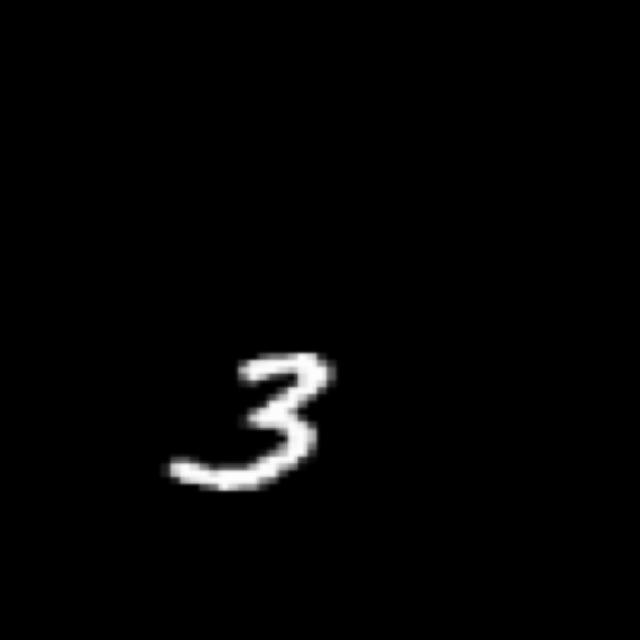three -3-: (150, 341, 342, 496)
